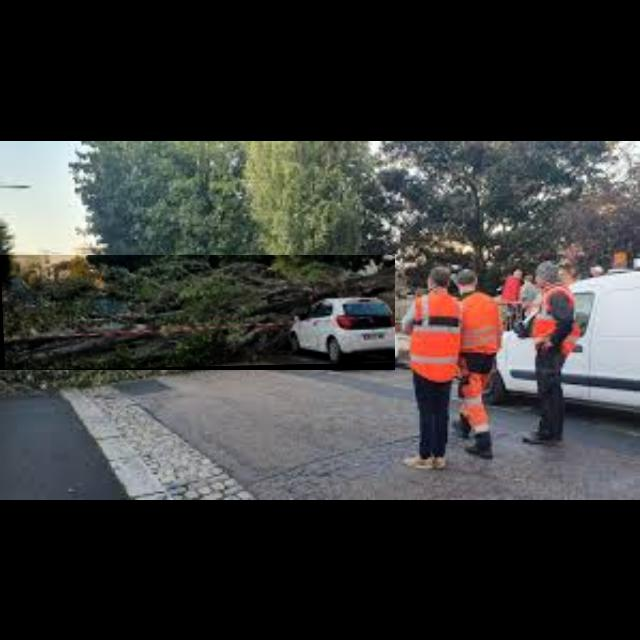Fallen Tree: (0, 255, 396, 371)
